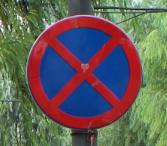No Parking: (28, 14, 145, 128)
